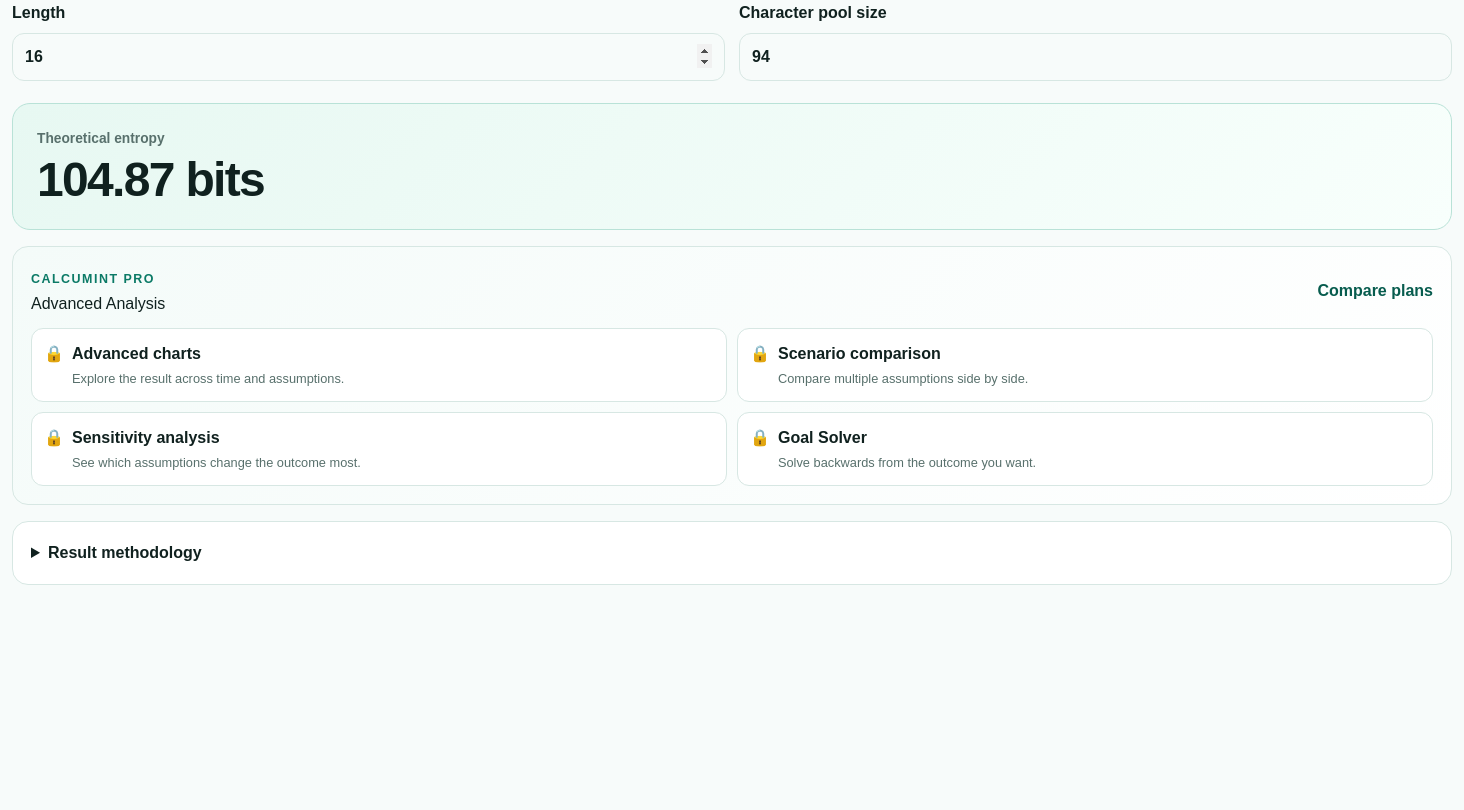
Scenario: Technology batch 2 UI validation › announces invalid password character pool
Replace the text in the number field labelled "Character pool size" with "1". click: coordinates (1096, 57)
box: [739,33,1452,81]
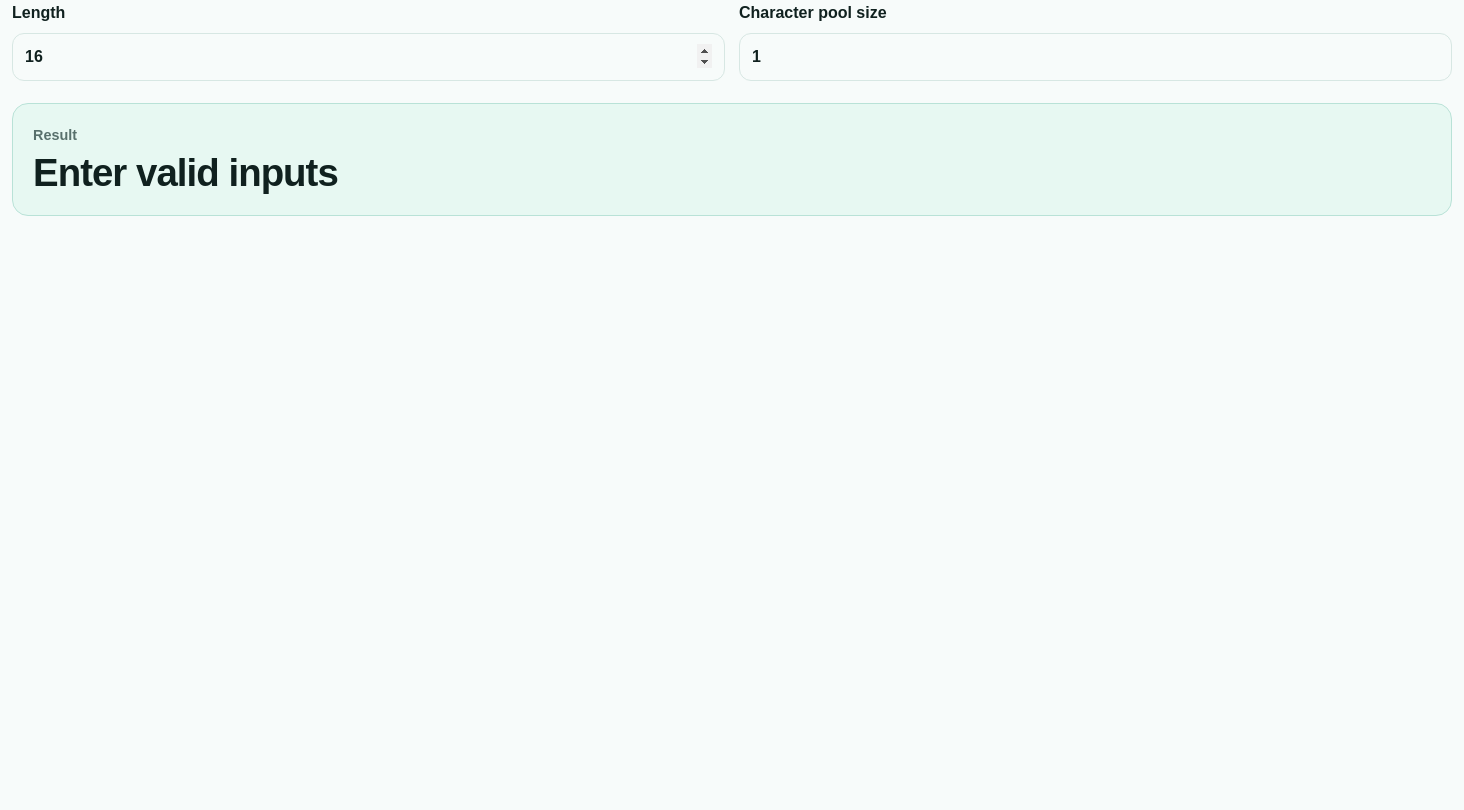
Check: the message shows "Enter valid inputs", box [33,151,338,194]
